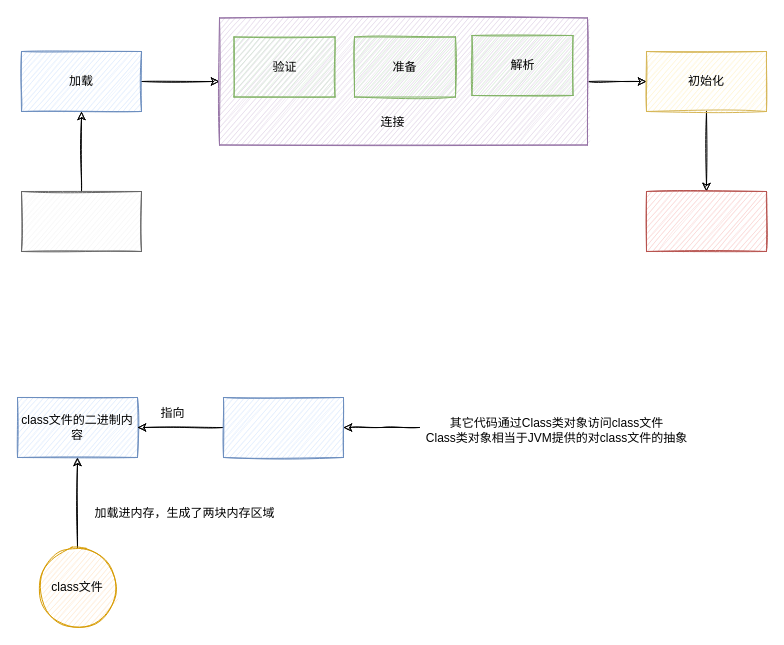
This 784x645 diagram has some shape labels left out. Here are the shapes that lost their labels. From the top down, the centre of each, then its label:
[81,221]: class
[706,221]: GC
[283,427]: Class类对象
